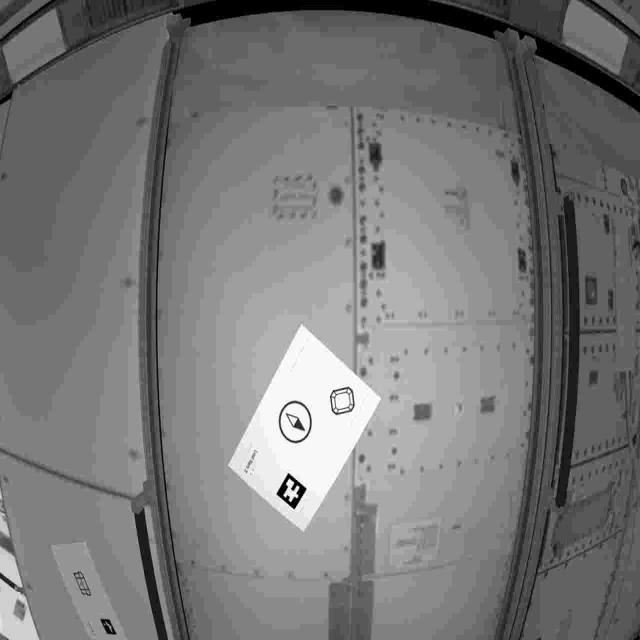compass: (278, 399, 314, 446)
emerald: (331, 387, 357, 415)
treasure_box: (69, 569, 96, 601)
